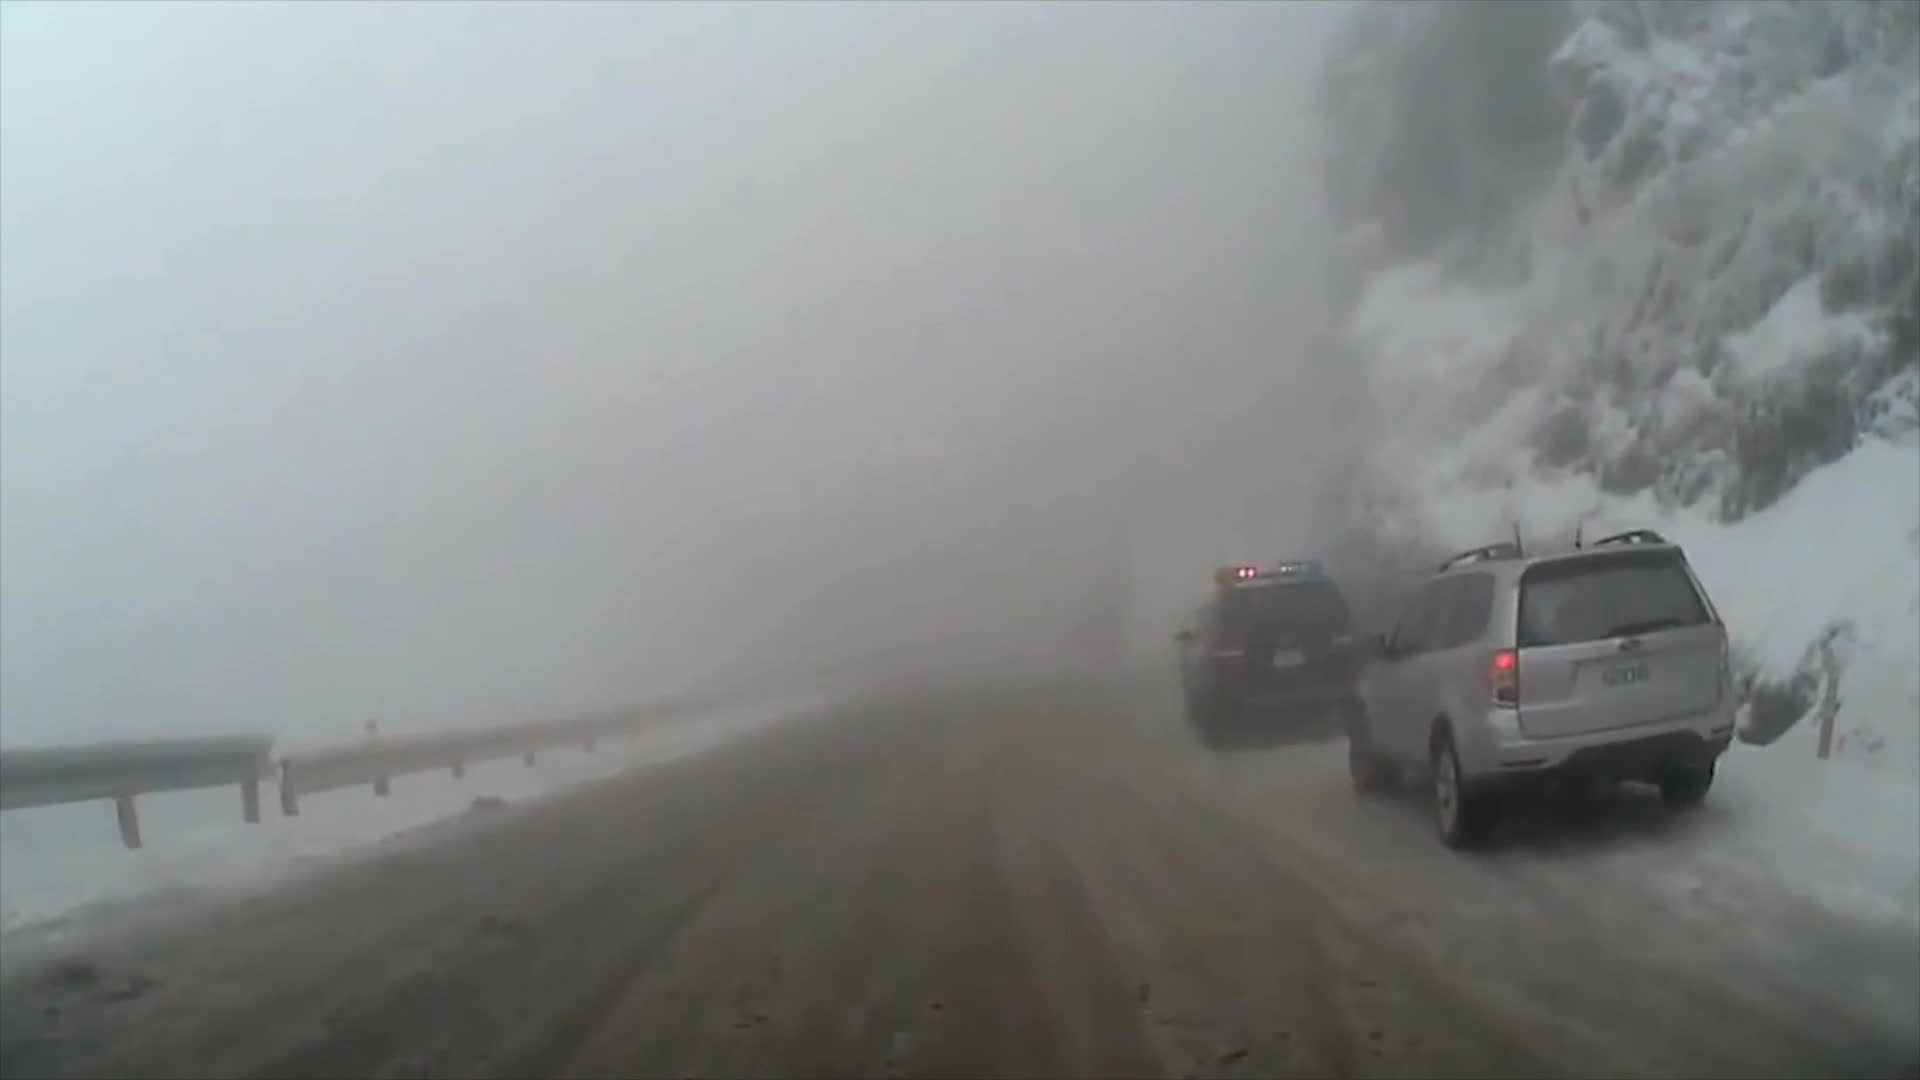vehicle: (1342, 526, 1739, 847), (1172, 549, 1369, 740)
